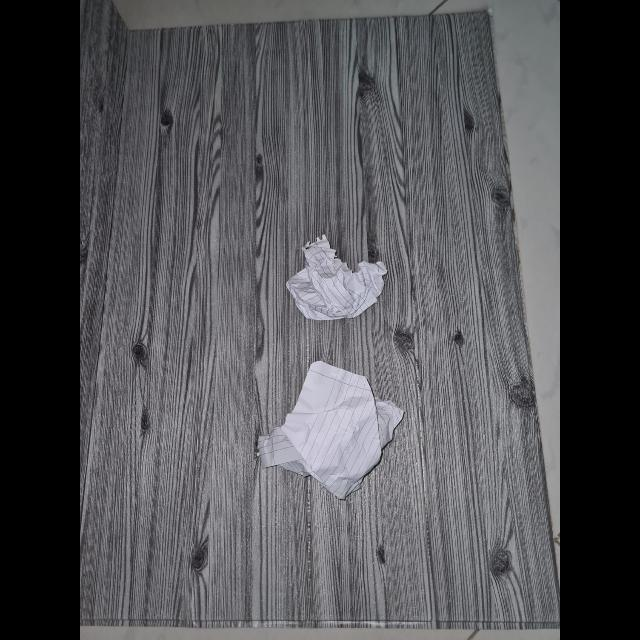trash: (252, 362, 396, 496), (280, 232, 390, 324)
